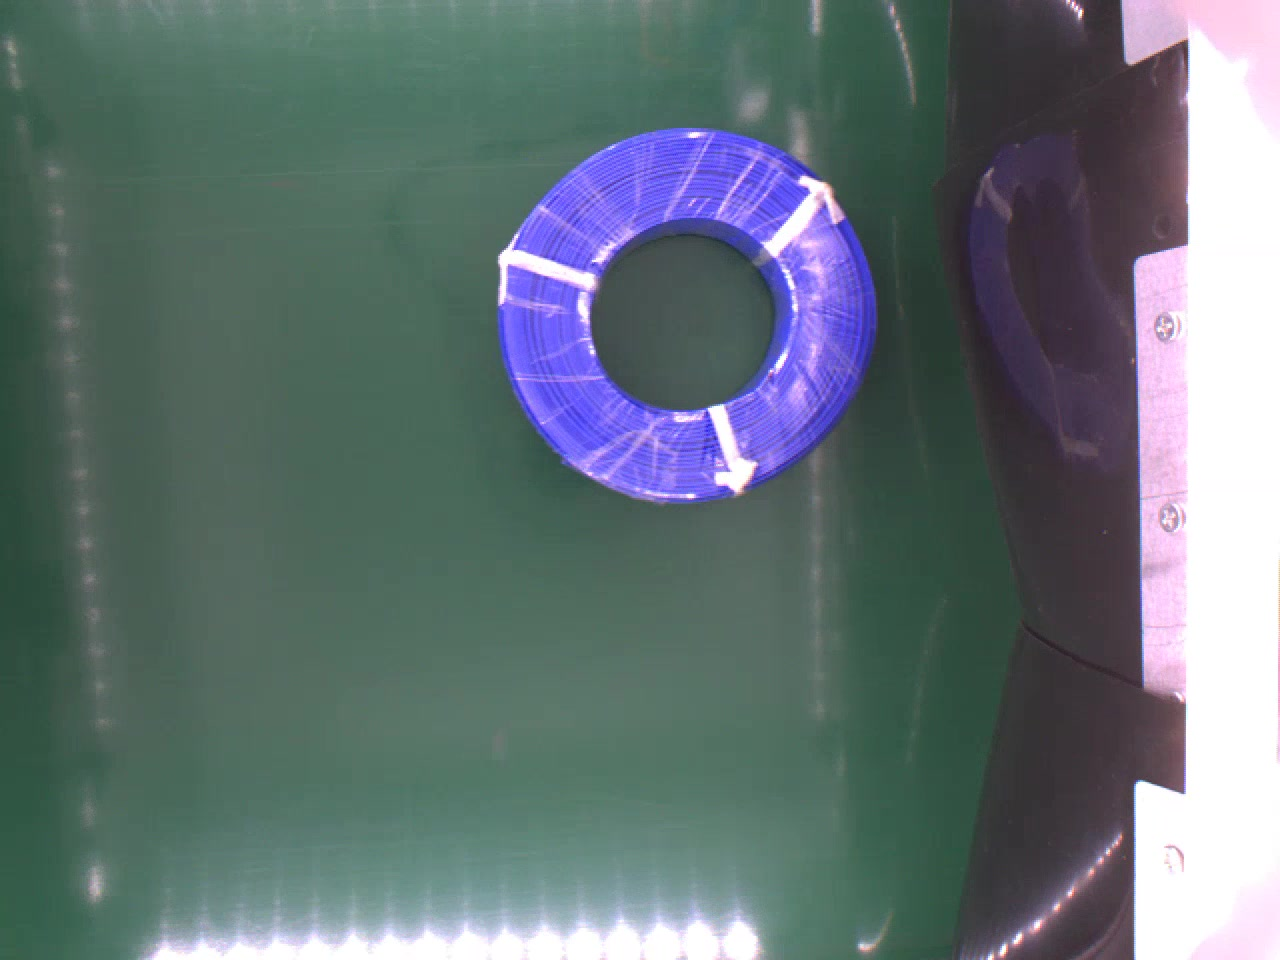blue: (500, 128, 887, 499)
